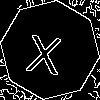X: (25, 25, 65, 75)
